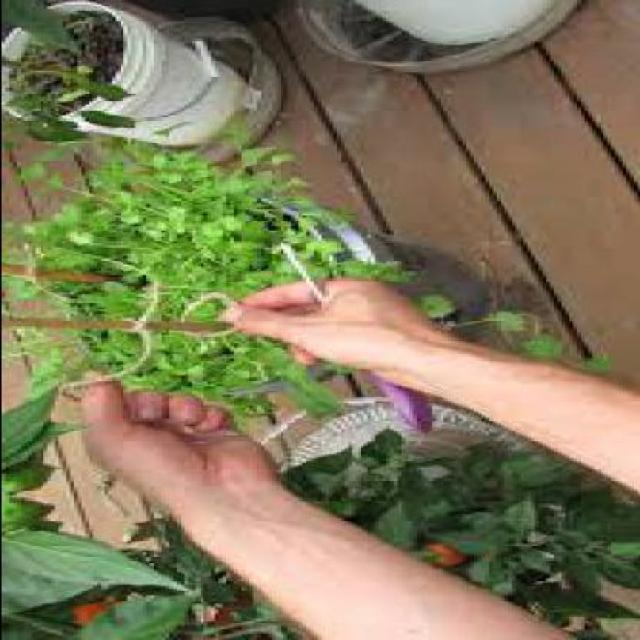BIODEGRADABLE: (12, 155, 350, 263), (49, 260, 248, 318), (8, 322, 149, 395), (126, 339, 274, 395), (225, 359, 328, 423), (202, 602, 267, 638), (1, 462, 53, 500), (244, 256, 301, 289), (309, 260, 408, 277), (2, 498, 49, 532), (472, 309, 522, 340), (514, 331, 564, 358), (58, 605, 99, 630), (415, 543, 454, 568), (416, 292, 446, 320), (16, 520, 62, 535)
METAL: (275, 245, 316, 301)
